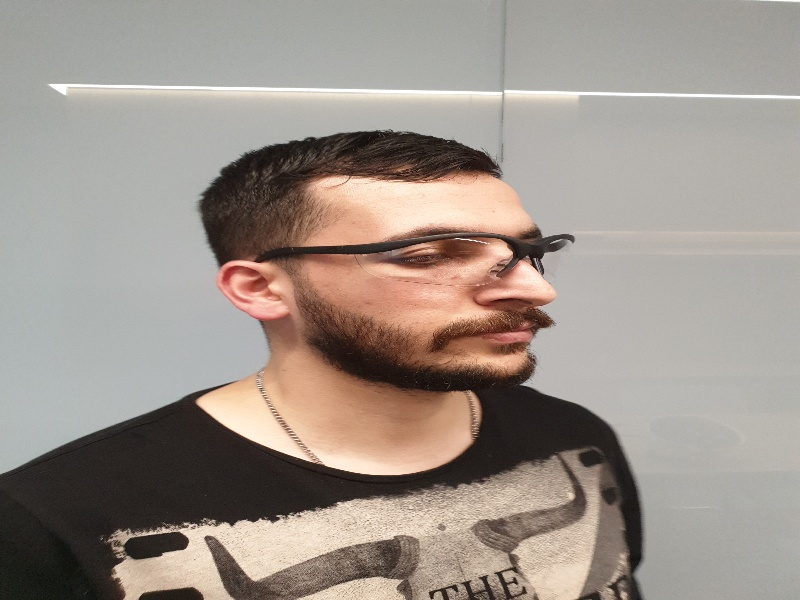Gozluk: (252, 232, 579, 289)
